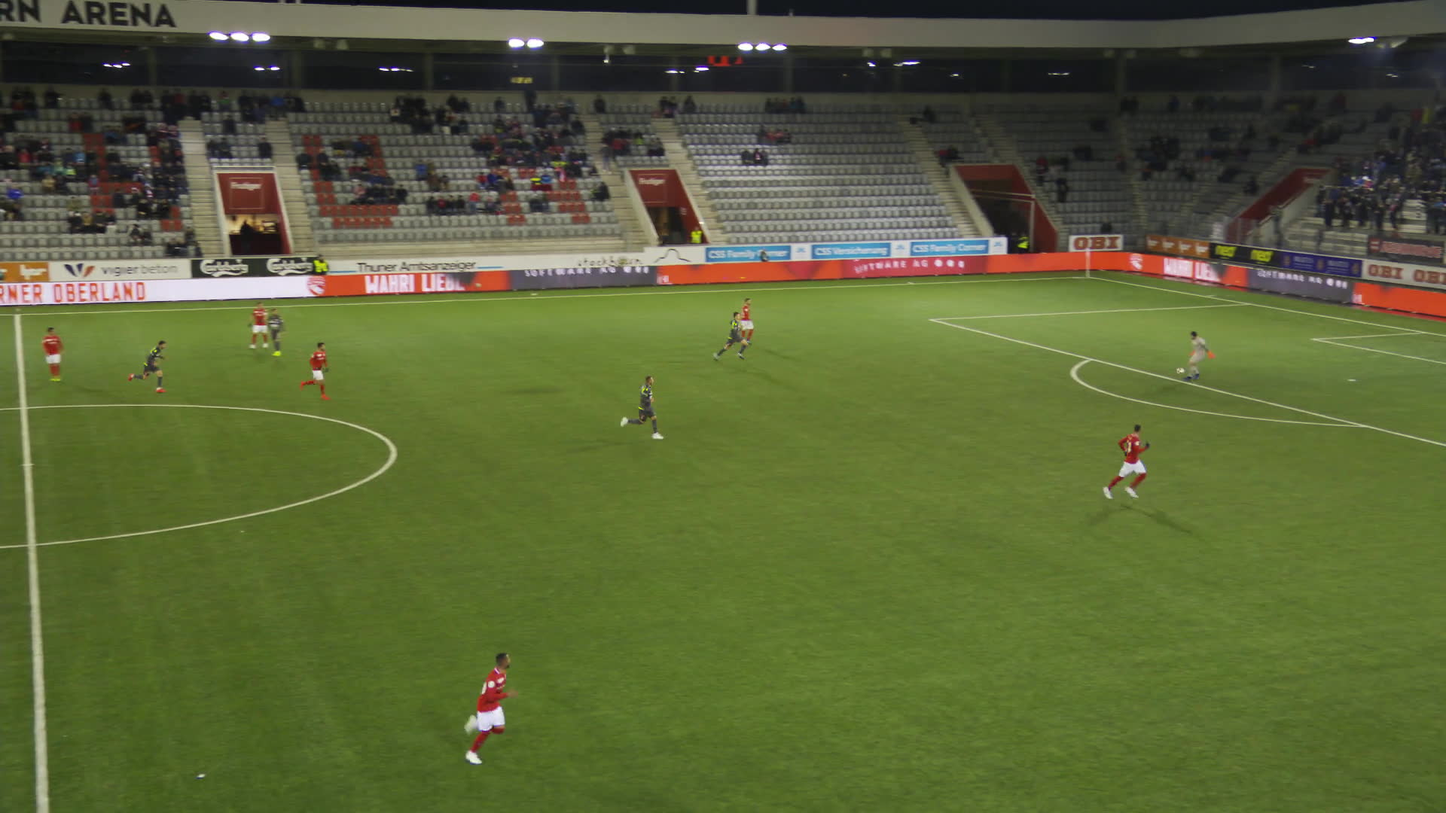ball: (1179, 370, 1188, 377)
player: (451, 647, 521, 764), (1096, 424, 1151, 502), (627, 376, 662, 439), (713, 311, 750, 362), (136, 340, 172, 392), (1187, 331, 1221, 382), (305, 343, 334, 400), (46, 326, 73, 382), (253, 301, 276, 349), (271, 308, 294, 355), (741, 298, 763, 346)
